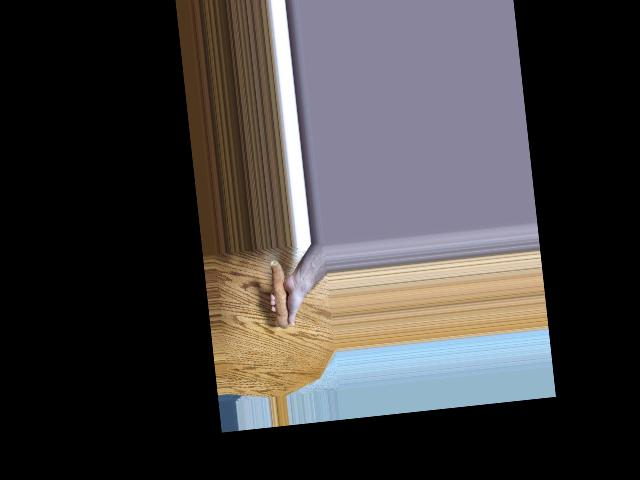sweet_potato: (269, 257, 297, 330)
